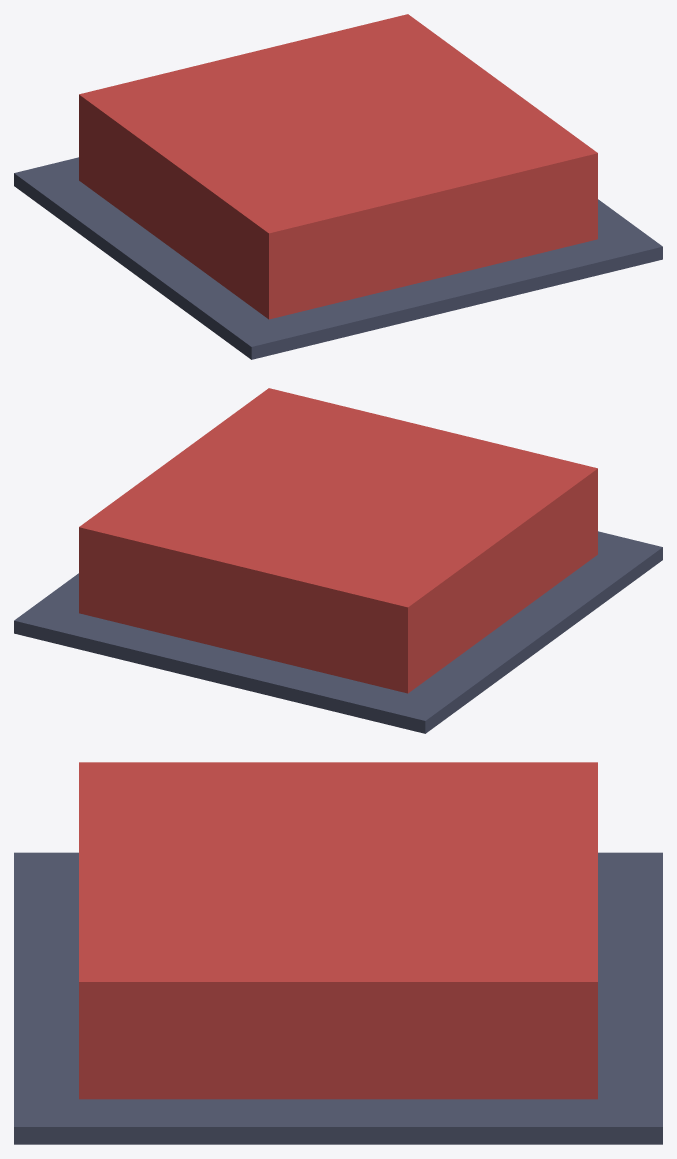
File: button.fbx
3 views of the same model, one above another, from view 1: azimuth 30°, elevation 25°; view 2: azimuth 150°, elevation 25°; view 3: azimuth 270°, elevation 25° (orthographic). The views are drawn at different scales.
Visible parts, largest first — view 1: button, base; view 2: button, base; view 3: button, base.
Part boxes in pixels (bbox=[...]): button: bbox=[79, 14, 597, 319]; base: bbox=[14, 157, 662, 359]; button: bbox=[79, 388, 597, 693]; base: bbox=[14, 531, 662, 733]; button: bbox=[79, 762, 597, 1099]; base: bbox=[14, 852, 662, 1144].
Size of the model in its own units: 62.5 by 14.38 by 62.5.
1 material, 1 textured.
